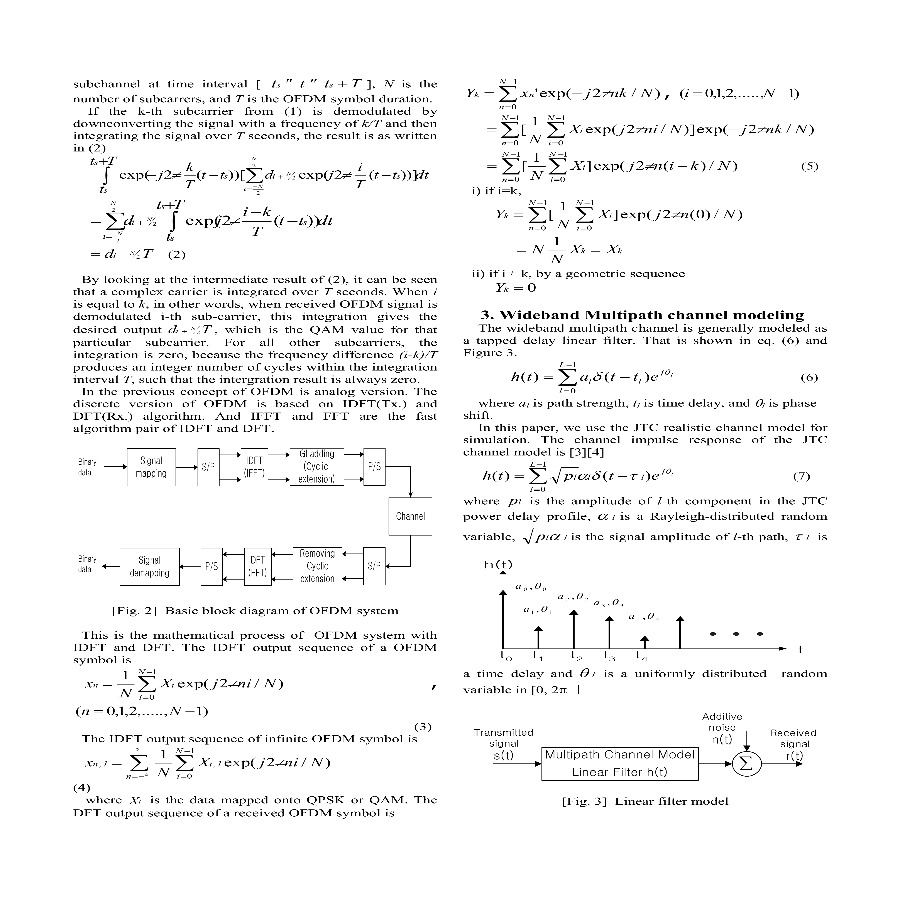eq: (87, 155, 430, 265), (467, 81, 821, 184), (470, 187, 750, 265), (73, 666, 288, 724), (81, 746, 334, 784), (479, 460, 676, 494), (507, 359, 682, 396), (471, 268, 689, 293)
